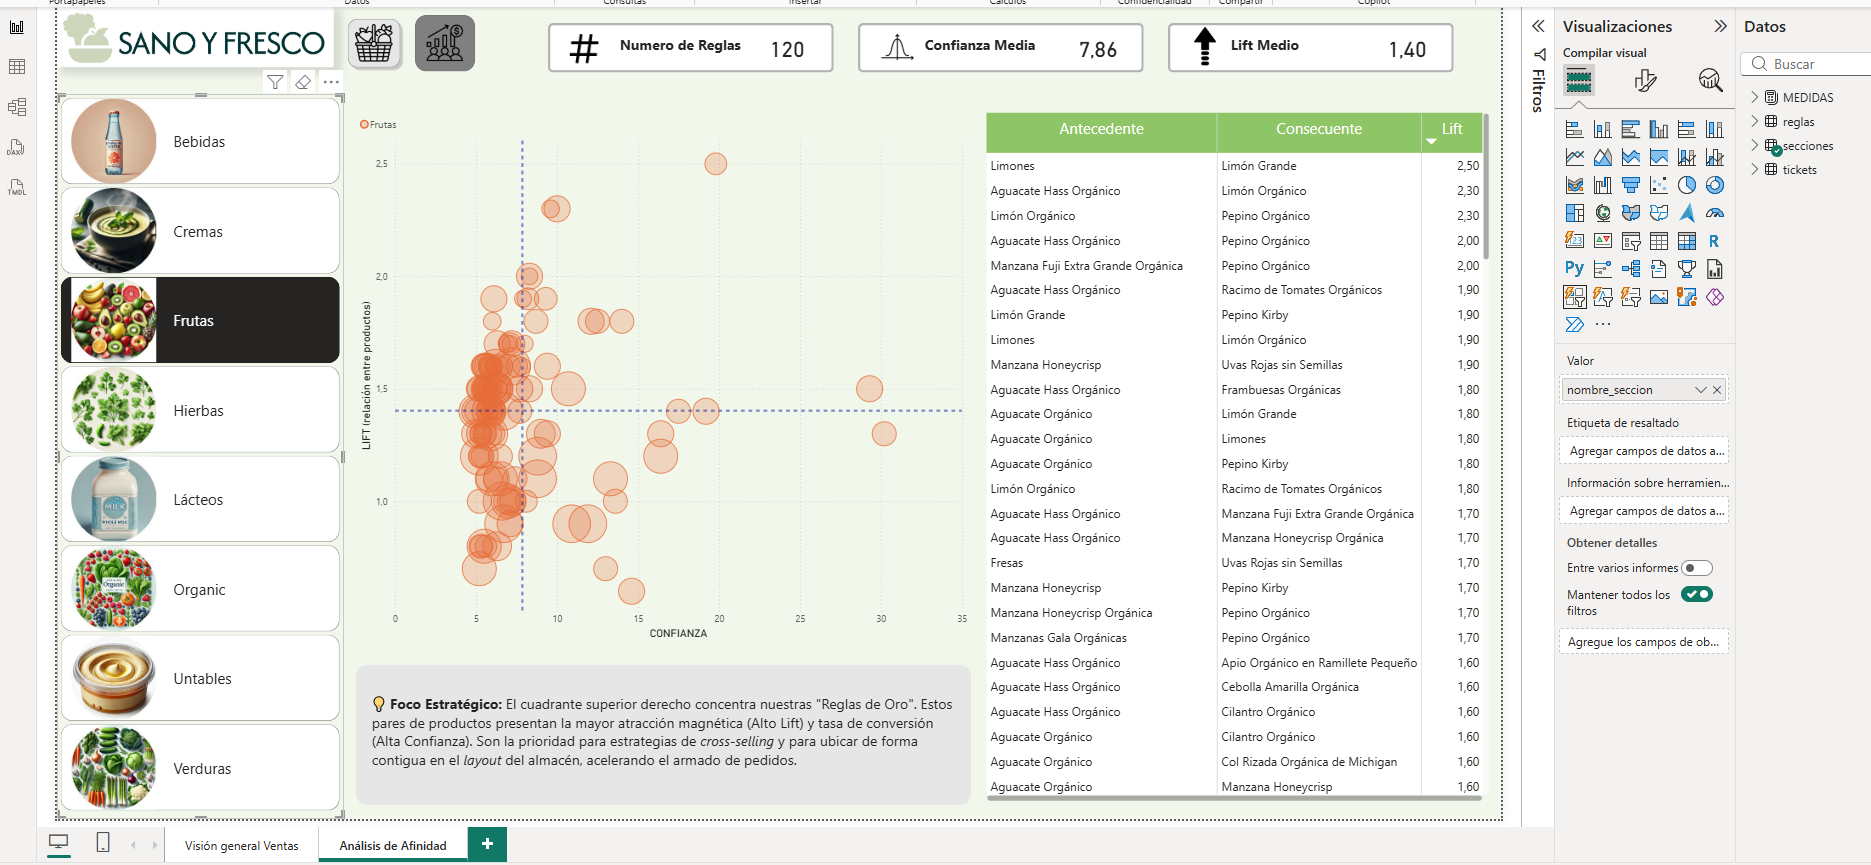

This screenshot's page, from the dashboard's own definition file:
{"tool":"powerbi","page":{"name":"Análisis de Afinidad","canvas":[1920,1080],"ordinal":1},"visuals":[{"type":"image","box":[0,0,368.6,80],"z":0},{"type":"shape","box":[382,11,80,75],"z":0,"group":"g2"},{"type":"shape","box":[476.5,11,80,75],"z":1000,"group":"g1"},{"type":"advancedSlicerVisual","fields":{"Values":["secciones.nombre_seccion"]},"box":[0,115.7,381.4,964.3],"z":1000},{"type":"shape","box":[652.9,21.9,380,65.7],"z":2000},{"type":"shape","box":[1065,21.9,380,65.7],"z":3000},{"type":"image","box":[397.2,23.3,50,50],"z":3000,"group":"g2"},{"type":"shape","box":[1477.1,21.9,380,65.7],"z":4000},{"type":"image","box":[491.7,23.3,50,50],"z":4000,"group":"g1"},{"type":"textbox","box":[742.9,31.9,198.6,42.9],"z":5000},{"type":"textbox","box":[1149.3,31.9,198.6,42.9],"z":6000},{"type":"textbox","box":[1555.7,31.9,198.6,42.9],"z":7000},{"type":"image","box":[668.6,35.7,64.3,38.6],"z":8000},{"type":"image","box":[1085.7,31.4,64.3,42.9],"z":9000},{"type":"image","box":[1487.1,27.1,80,51.4],"z":10000},{"type":"card","title":"Total Clientes","fields":{"Values":["CountNonNull(reglas.id_seccion_a)"]},"box":[910,25.7,122.9,58.6],"z":11000},{"type":"card","title":"Total Clientes","fields":{"Values":["Avg(reglas.confianza)"]},"box":[1322.9,25.7,122.9,58.6],"z":12000},{"type":"card","title":"Total Clientes","fields":{"Values":["Avg(reglas.lift)"]},"box":[1734.3,25.7,122.9,58.6],"z":13000},{"type":"tableEx","fields":{"Values":["reglas.antecedente","reglas.consecuente","Sum(reglas.lift)"]},"box":[1230,135.7,680,925.7],"z":14000},{"type":"scatterChart","fields":{"X":["Sum(reglas.confianza)"],"Y":["Sum(reglas.lift)"],"Size":["Sum(reglas.soporte_a)"],"Category":["reglas.Nombre Regla"],"Series":["secciones.nombre_seccion"]},"box":[397.7,135.7,818,710.2],"z":15000},{"type":"shape","box":[397.7,875.2,818,186.2],"z":16000},{"type":"textbox","box":[413.6,908.4,786.1,141],"z":17000},{"type":"group","id":"g1","title":"Grupo 1","box":[476.5,11,80,75],"z":18000},{"type":"group","id":"g2","title":"Grupo 2","box":[382,11,80,75],"z":19000}]}

Visuals, with their boxes on the page's 1920x1080 design canvas (x1, y1, x2, y2). These are canvas units, not pixel positions in the 1871x865 screenshot, which may show the page scaled, cropped or inside an application window:
image: (0,0,369,80)
shape: (382,11,462,86)
shape: (476,11,556,86)
advancedSlicerVisual - secciones.nombre_seccion: (0,116,381,1080)
shape: (653,22,1033,88)
shape: (1065,22,1445,88)
image: (397,23,447,73)
shape: (1477,22,1857,88)
image: (492,23,542,73)
textbox: (743,32,942,75)
textbox: (1149,32,1348,75)
textbox: (1556,32,1754,75)
image: (669,36,733,74)
image: (1086,31,1150,74)
image: (1487,27,1567,78)
"Total Clientes" card: (910,26,1033,84)
"Total Clientes" card: (1323,26,1446,84)
"Total Clientes" card: (1734,26,1857,84)
tableEx - reglas.antecedente x reglas.consecuente: (1230,136,1910,1061)
scatterChart - Sum(reglas.confianza) x Sum(reglas.lift): (398,136,1216,846)
shape: (398,875,1216,1061)
textbox: (414,908,1200,1049)
"Grupo 1" group: (476,11,556,86)
"Grupo 2" group: (382,11,462,86)
